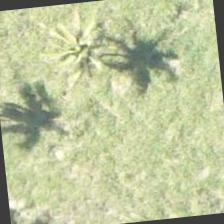Kelapa_Sawit: (32, 0, 131, 87)
